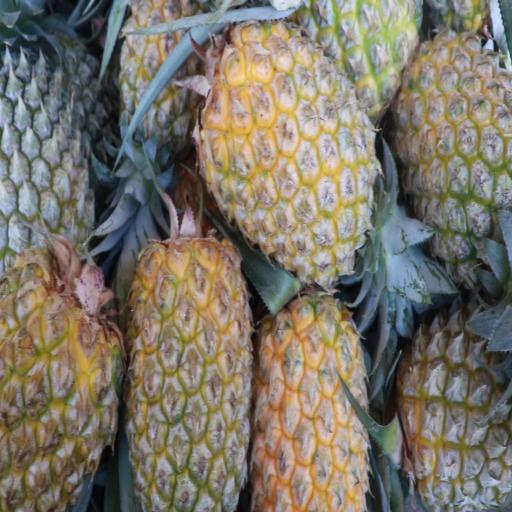------------------------------: (398, 35, 512, 284), (394, 301, 512, 511), (118, 0, 210, 149)
Pineapple - v8 v1: (207, 16, 371, 276), (0, 248, 126, 512), (128, 239, 250, 508), (257, 294, 366, 512), (314, 0, 421, 105)
